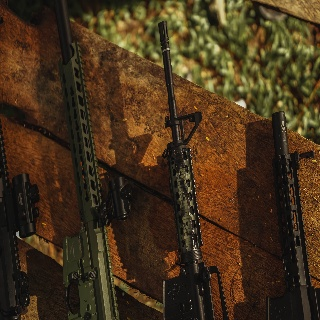rifle: (53, 1, 135, 320), (155, 19, 233, 320), (266, 109, 320, 320), (1, 116, 43, 319)
